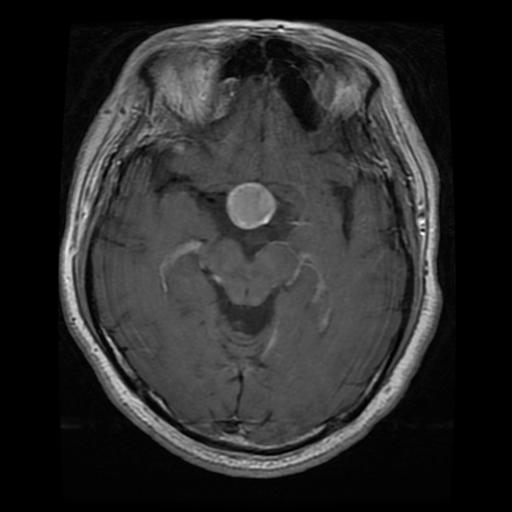Pituirity_tumour: (225, 181, 276, 229)
